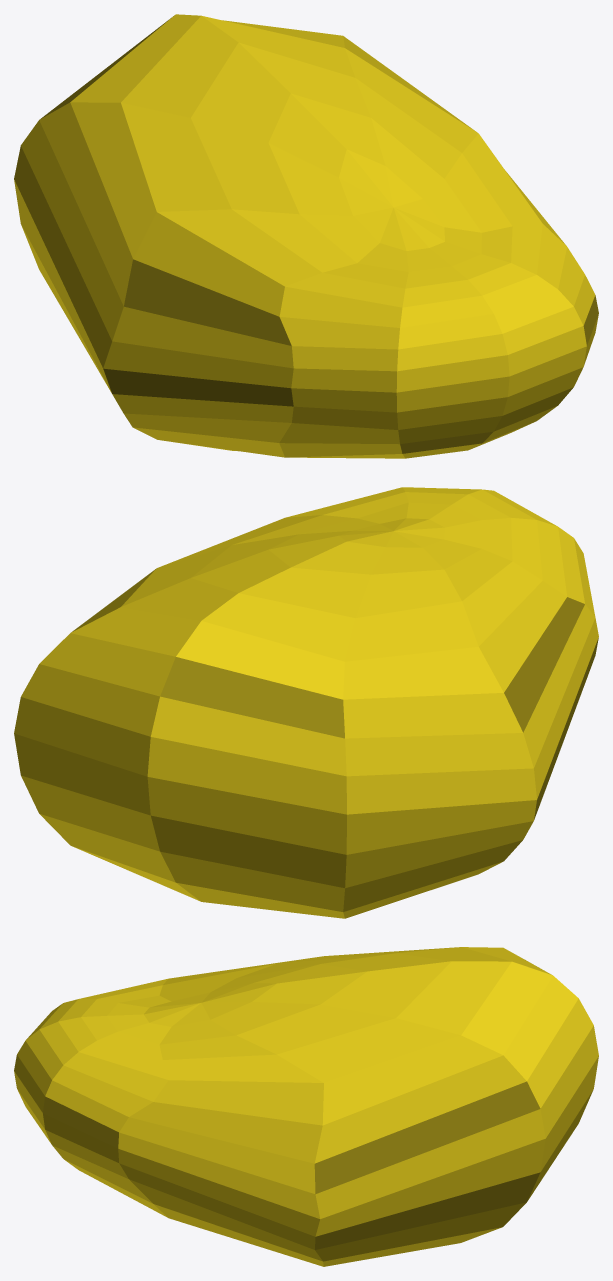
File: saw_seed.glb
3 renders of one model, top to bottom at view 1: azimuth 30°, elevation 25°; view 2: azimuth 150°, elevation 25°; view 3: azimuth 270°, elevation 25°, orthographic. The views are drawn at different scales.
Visible parts, largest first — view 1: Sphere; view 2: Sphere; view 3: Sphere.
Boxes of the visible parts, bbox=[...] form: Sphere: bbox=[14, 14, 598, 458]; Sphere: bbox=[14, 487, 598, 918]; Sphere: bbox=[14, 947, 598, 1266].
Size of the model in its own units: 0.1381 by 0.0963 by 0.1997.
